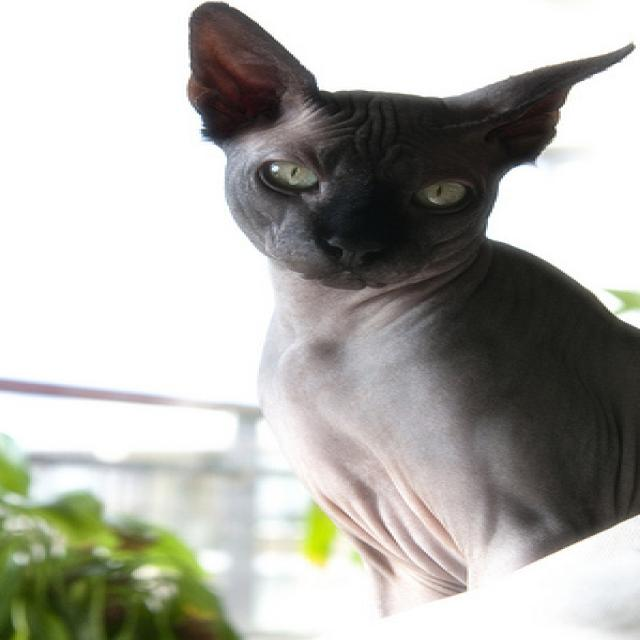Sphynx: (180, 0, 640, 619)
